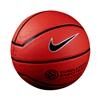basketball: (9, 10, 91, 90)
